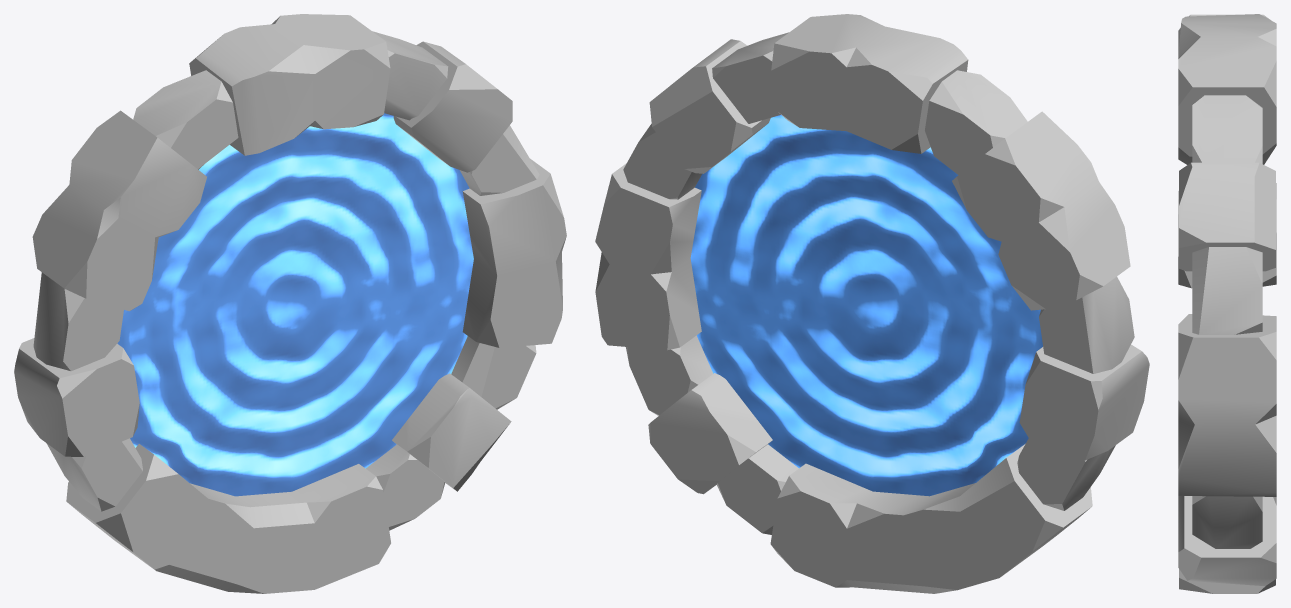
Rendered from Portal.fbx.
The picture shows the model from 3 angles, left to right: view 1: azimuth 30°, elevation 25°; view 2: azimuth 150°, elevation 25°; view 3: azimuth 270°, elevation 25°; orthographic projection.
Visible parts, largest first — view 1: BrickLarge_low, PortalSurface_low, BrickSmall_low; view 2: BrickLarge_low, PortalSurface_low, BrickSmall_low; view 3: BrickLarge_low, BrickSmall_low.
Boxes of the visible parts, x1,y1,x2,y2 form: BrickLarge_low: (14,14,566,593); PortalSurface_low: (117,113,473,496); BrickSmall_low: (33,31,539,530); BrickLarge_low: (595,14,1149,593); PortalSurface_low: (690,115,1042,496); BrickSmall_low: (623,32,1134,534); BrickLarge_low: (1178,14,1276,593); BrickSmall_low: (1192,95,1262,548).
Size of the model in its own units: 266 by 268 by 44.99.
